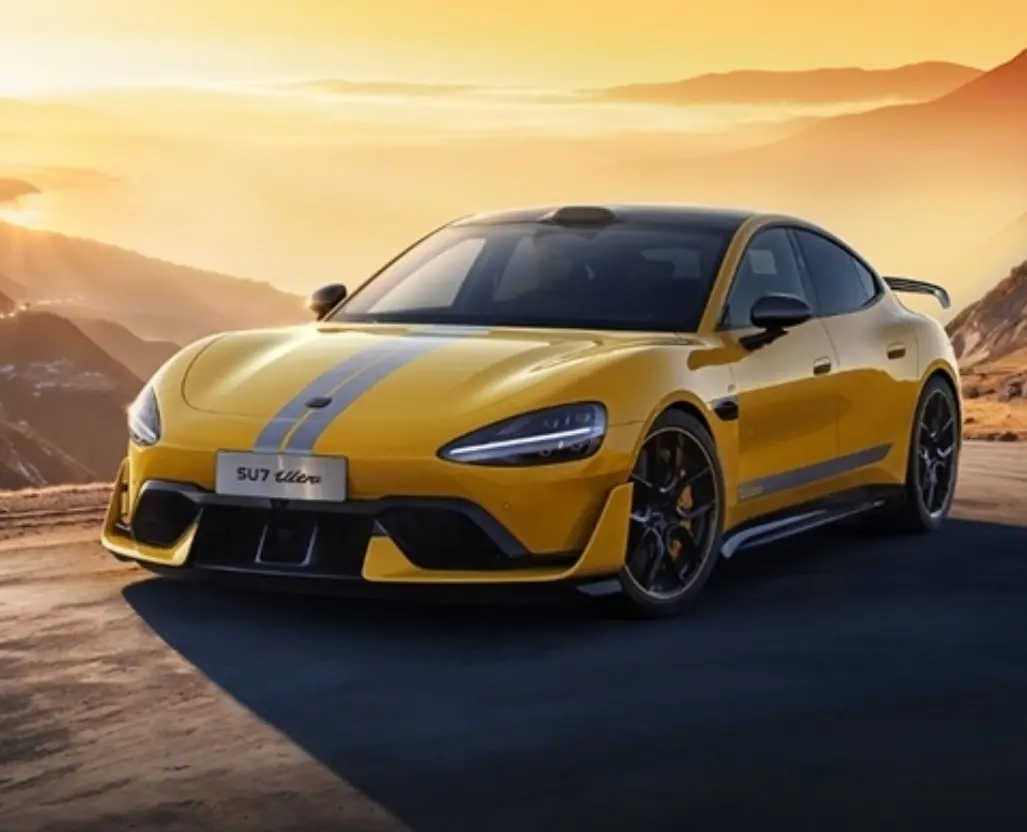su7: (100, 200, 965, 628)
